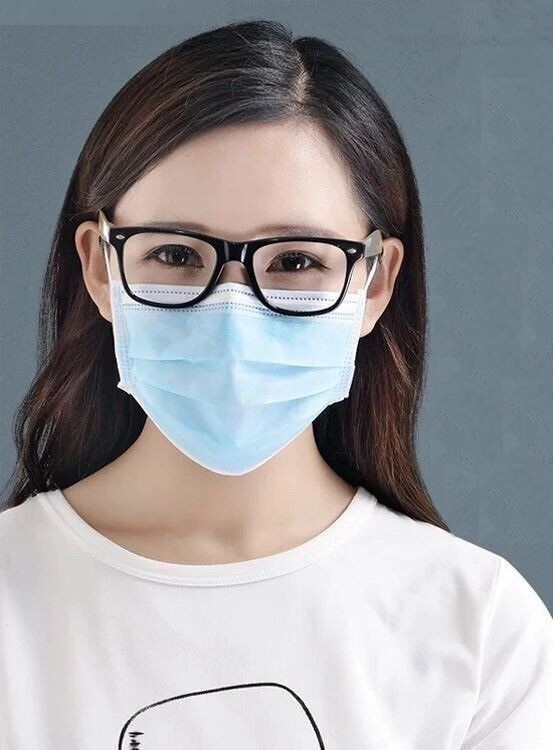face_mask: (116, 114, 358, 478)
